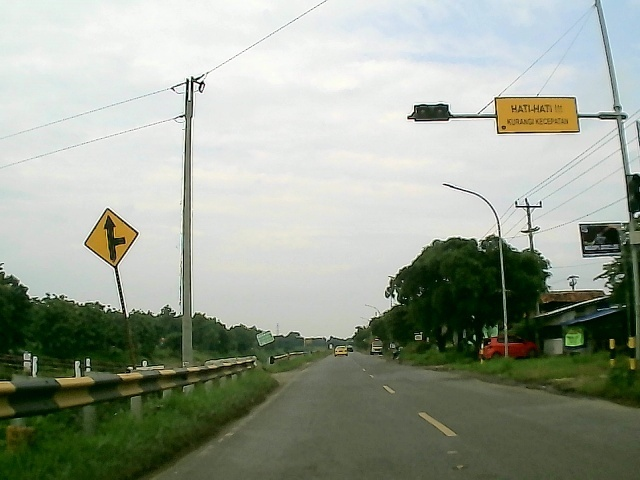Simpang kanan dengan prioritas: (81, 206, 144, 268)
